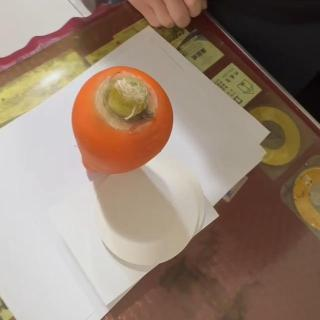carrot: (72, 65, 174, 175)
